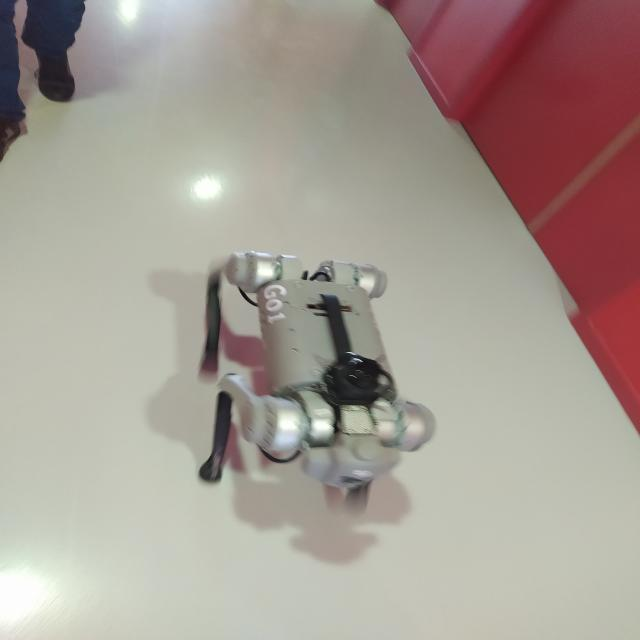unitree-go1-robot: (182, 243, 444, 518)
